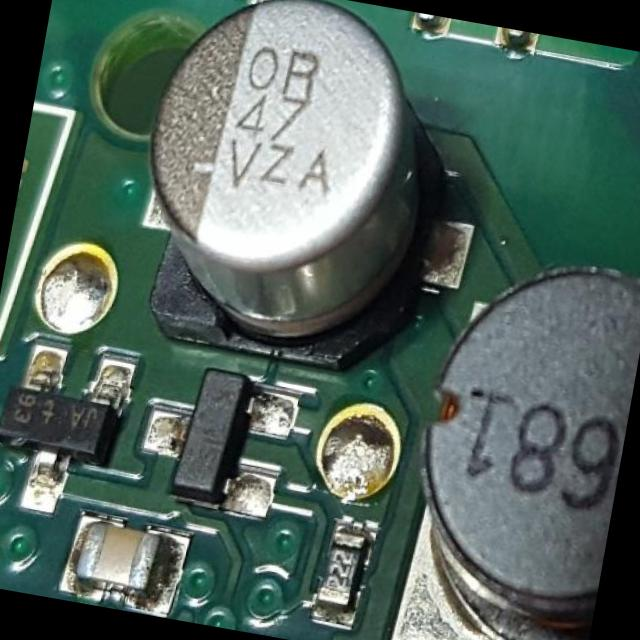capacitor: (106, 0, 449, 361), (56, 511, 170, 608)
resistor: (312, 528, 362, 626)
transistor: (147, 351, 290, 514), (0, 348, 127, 488)
